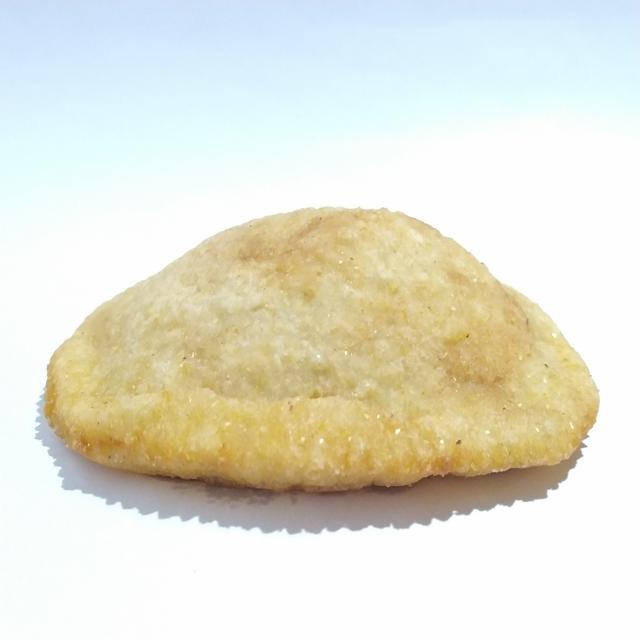Pastel_Mandio: (32, 177, 606, 491)
